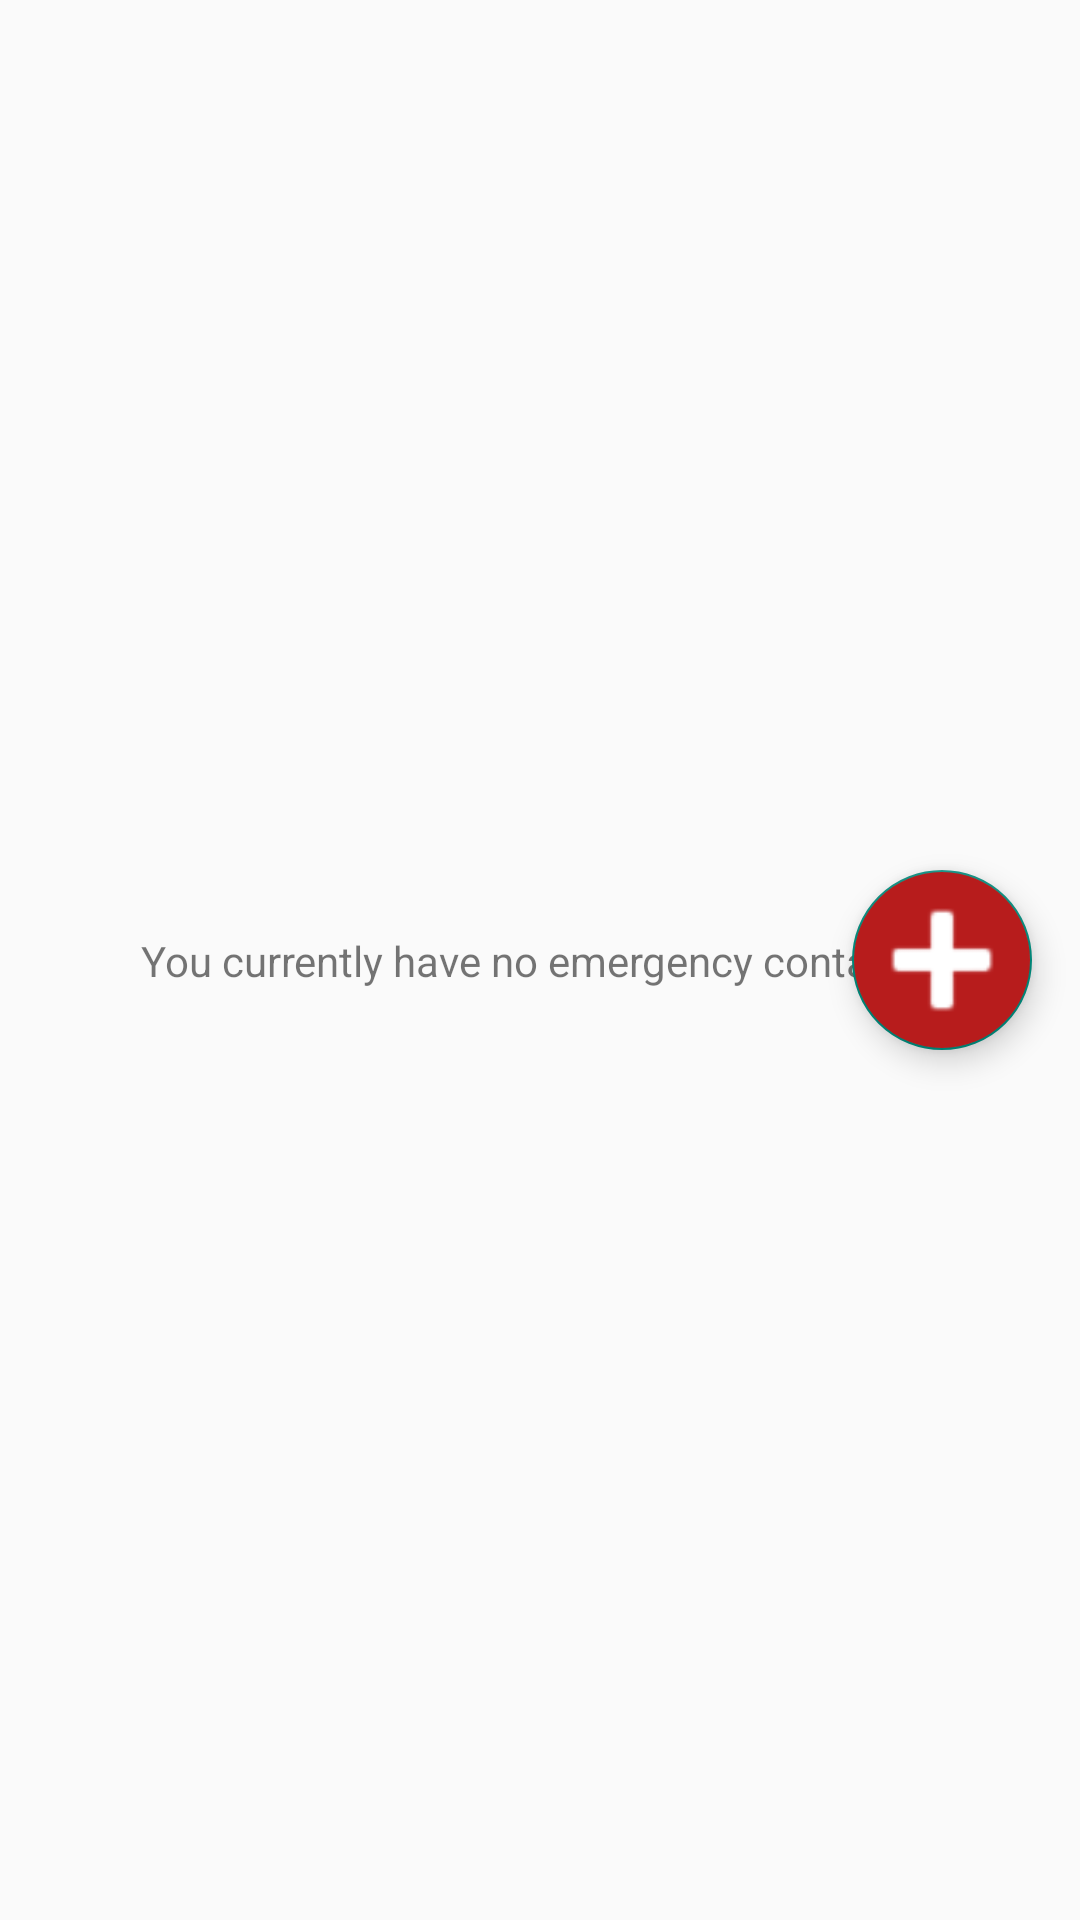

Where icons sit on this 1080*1920 app screen, as [x1, y1, x2, y2]:
add: [852, 870, 1032, 1050]
